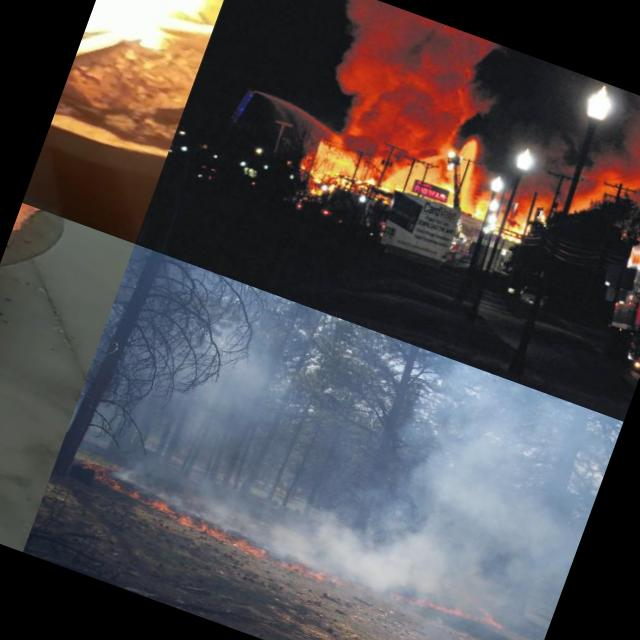fire: (76, 0, 235, 94), (296, 127, 416, 220), (436, 142, 506, 215), (427, 592, 512, 636), (270, 554, 342, 594), (482, 200, 534, 254), (217, 531, 272, 567), (178, 513, 220, 542), (90, 469, 126, 497), (151, 498, 182, 524), (123, 484, 151, 512)
smoke: (341, 350, 622, 628), (287, 0, 490, 171), (156, 276, 324, 480), (107, 428, 356, 554)
